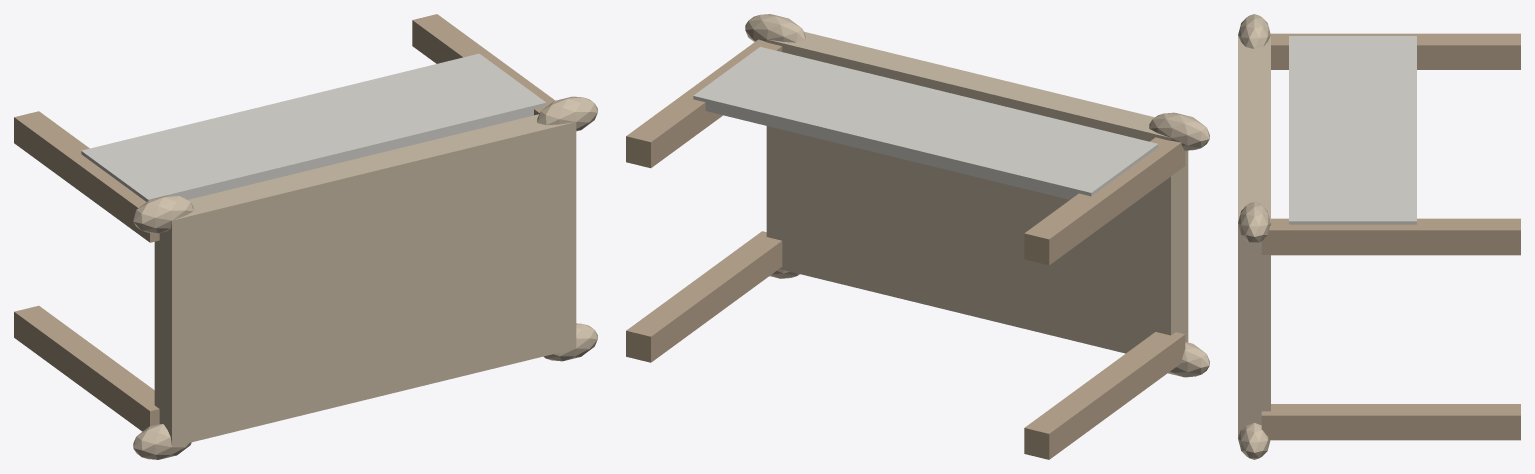
The model's file is office_desk.glb.
3 renders of one model, left to right at view 1: azimuth 30°, elevation 25°; view 2: azimuth 150°, elevation 25°; view 3: azimuth 270°, elevation 25°, orthographic. The views are drawn at different scales.
Parts seen in each view (by area): view 1: desktop_core, modesty_panel, leg_-0.6_-0.28, leg_-0.6_0.28, leg_0.6_0.28, desktop_corner_-1_1, desktop_corner_1_1, desktop_corner_-1_-1, desktop_corner_1_-1; view 2: desktop_core, modesty_panel, leg_-0.6_-0.28, leg_0.6_-0.28, leg_-0.6_0.28, leg_0.6_0.28, desktop_corner_-1_1, desktop_corner_1_1, desktop_corner_-1_-1; view 3: modesty_panel, desktop_core, leg_0.6_-0.28, leg_0.6_0.28, leg_-0.6_0.28, desktop_corner_1_1, desktop_corner_-1_1, desktop_corner_1_-1.
Boxes of the visible parts, bbox=[...] form: desktop_core: bbox=[154, 114, 576, 446]; modesty_panel: bbox=[81, 53, 546, 201]; leg_-0.6_-0.28: bbox=[14, 305, 159, 431]; leg_-0.6_0.28: bbox=[14, 111, 159, 242]; leg_0.6_0.28: bbox=[412, 14, 554, 115]; desktop_corner_-1_1: bbox=[133, 195, 193, 233]; desktop_corner_1_1: bbox=[537, 96, 597, 131]; desktop_corner_-1_-1: bbox=[133, 424, 191, 459]; desktop_corner_1_-1: bbox=[543, 323, 597, 361]; desktop_core: bbox=[766, 31, 1188, 353]; modesty_panel: bbox=[693, 46, 1158, 199]; leg_-0.6_-0.28: bbox=[1024, 332, 1185, 459]; leg_0.6_-0.28: bbox=[626, 231, 782, 362]; leg_-0.6_0.28: bbox=[1024, 137, 1185, 265]; leg_0.6_0.28: bbox=[626, 39, 782, 168]; desktop_corner_-1_1: bbox=[1149, 112, 1209, 150]; desktop_corner_1_1: bbox=[745, 14, 805, 42]; desktop_corner_-1_-1: bbox=[1168, 342, 1209, 377]; modesty_panel: bbox=[1289, 36, 1416, 224]; desktop_core: bbox=[1238, 35, 1270, 437]; leg_0.6_-0.28: bbox=[1261, 404, 1520, 440]; leg_0.6_0.28: bbox=[1261, 218, 1520, 254]; leg_-0.6_0.28: bbox=[1270, 33, 1520, 69]; desktop_corner_1_1: bbox=[1238, 202, 1270, 243]; desktop_corner_-1_1: bbox=[1238, 14, 1270, 48]; desktop_corner_1_-1: bbox=[1238, 423, 1270, 459].
Size of the model in its own units: 1.4 by 0.75 by 0.775.
